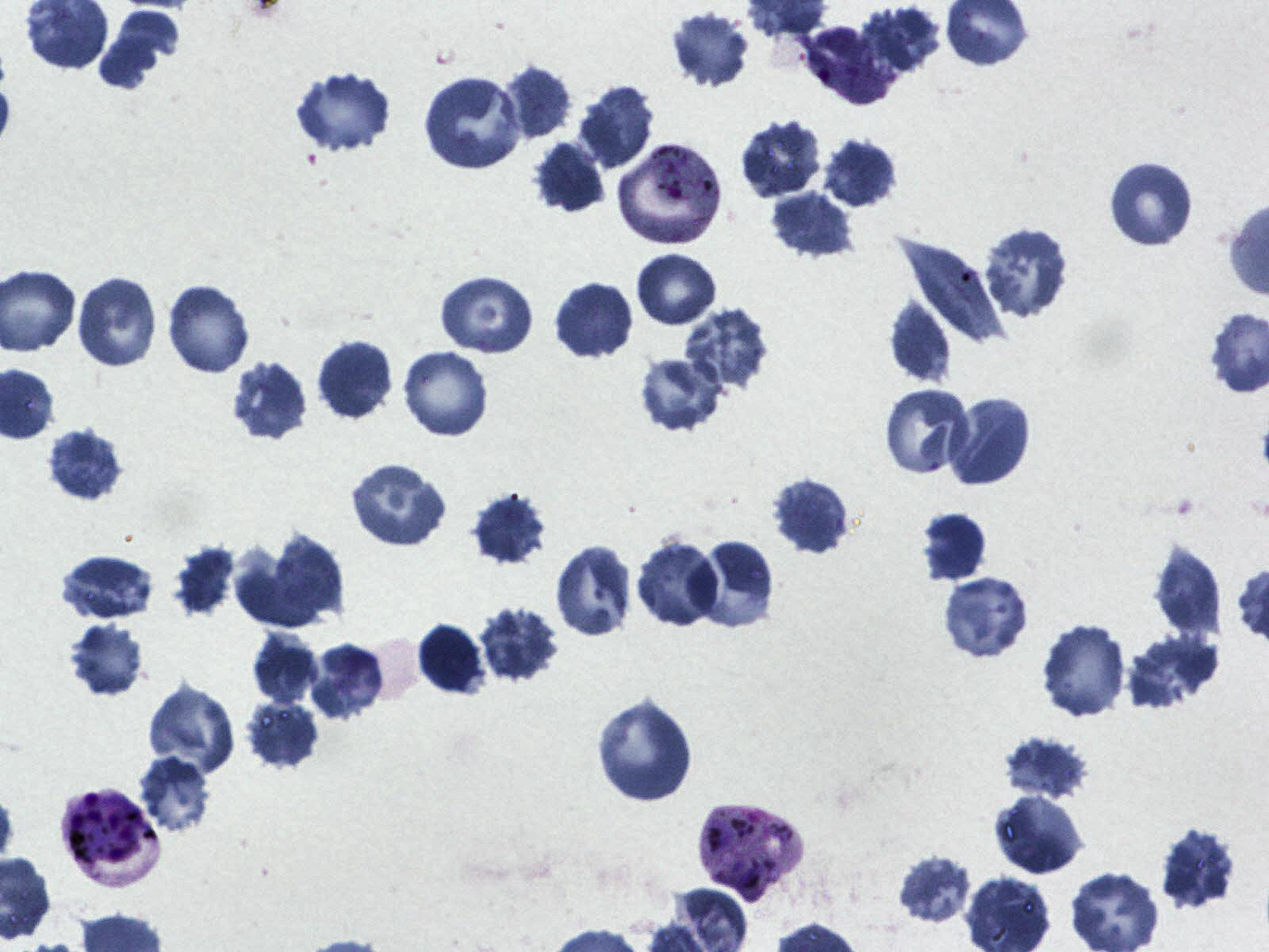Infected: (618, 144, 723, 244), (700, 804, 802, 902), (61, 789, 160, 889), (803, 25, 897, 104)
Uninfected: (897, 238, 1008, 344), (597, 700, 696, 805), (424, 77, 523, 173), (146, 685, 237, 781), (348, 462, 449, 548), (1041, 623, 1128, 720), (296, 68, 390, 155), (76, 274, 159, 372), (984, 225, 1070, 319), (166, 281, 251, 375), (684, 539, 773, 627), (635, 540, 722, 629), (403, 350, 490, 438), (1110, 159, 1195, 248), (682, 303, 768, 390), (941, 574, 1030, 658), (949, 397, 1033, 486), (439, 274, 532, 353), (1152, 543, 1224, 642), (554, 544, 631, 636), (996, 794, 1082, 876), (1130, 631, 1223, 706), (739, 118, 823, 201), (581, 83, 656, 175), (237, 547, 320, 630), (638, 352, 723, 432), (634, 251, 719, 330), (771, 184, 859, 258), (231, 359, 309, 442), (61, 552, 154, 620), (136, 754, 213, 836), (320, 339, 395, 423), (887, 391, 966, 470), (1005, 731, 1090, 804), (558, 283, 636, 362), (69, 620, 148, 698), (99, 12, 178, 90), (479, 605, 560, 681), (897, 850, 975, 927), (773, 477, 849, 555), (673, 12, 749, 90), (1157, 831, 1233, 909), (245, 695, 323, 770), (43, 427, 122, 501), (498, 63, 573, 138), (473, 489, 546, 566), (273, 532, 343, 612), (823, 135, 898, 209), (305, 647, 384, 717), (868, 6, 941, 81), (921, 509, 991, 584), (891, 298, 953, 382), (413, 624, 483, 697), (536, 141, 604, 214), (172, 543, 236, 620), (255, 631, 318, 701)
